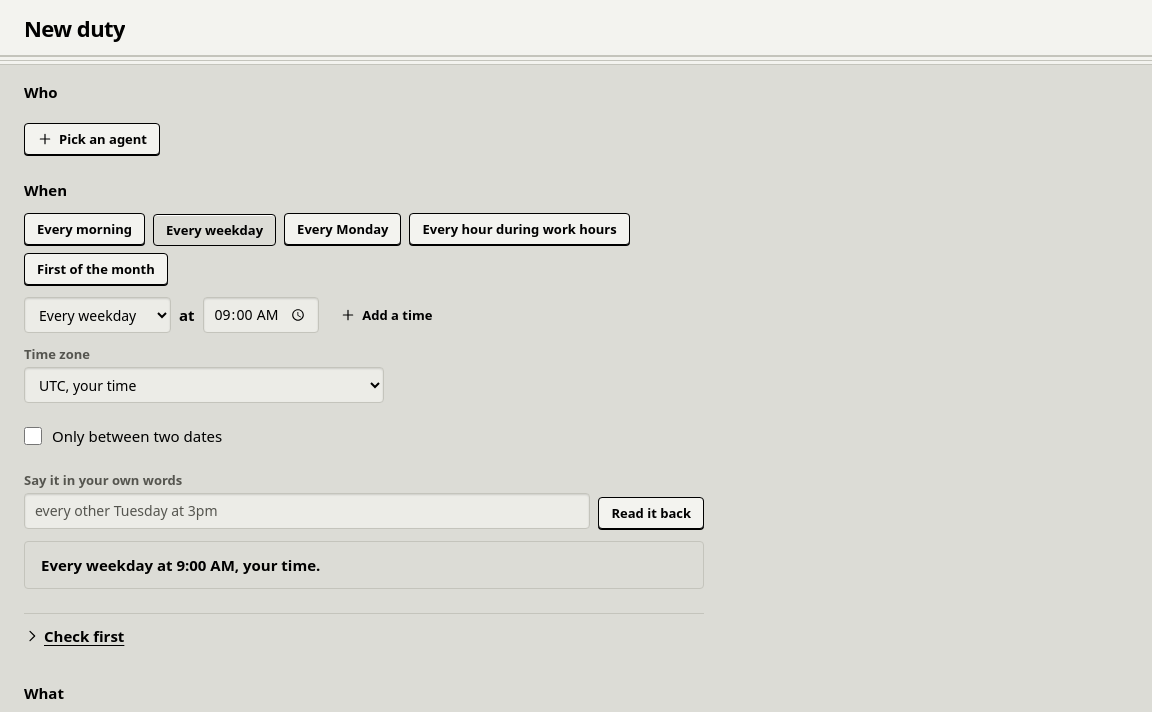
Test case: the editor of a duty › says a last day before the first day at once, in the words of the fields, and asks the server nothing for it
Click the checkbox labelled "Only between two dates": (33, 436) x1=24 y1=427 x2=42 y2=445
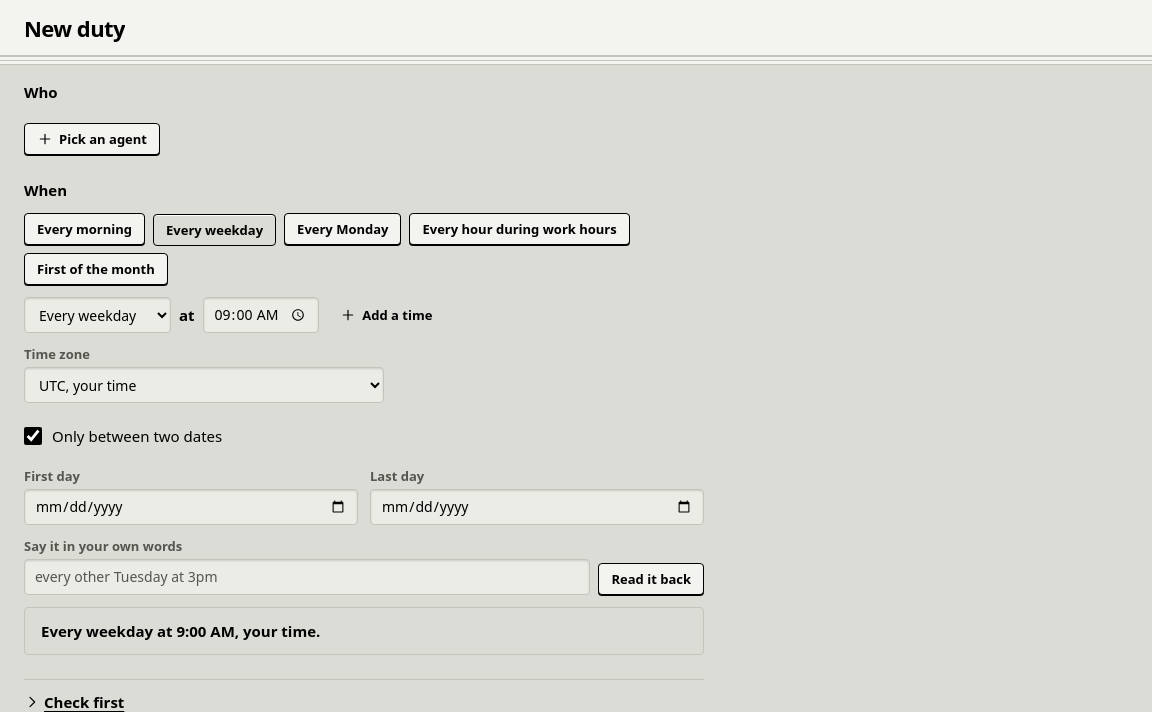
In the date field labelled "First day": (191, 507) x1=24 y1=489 x2=358 y2=525, type "2026-12-10"
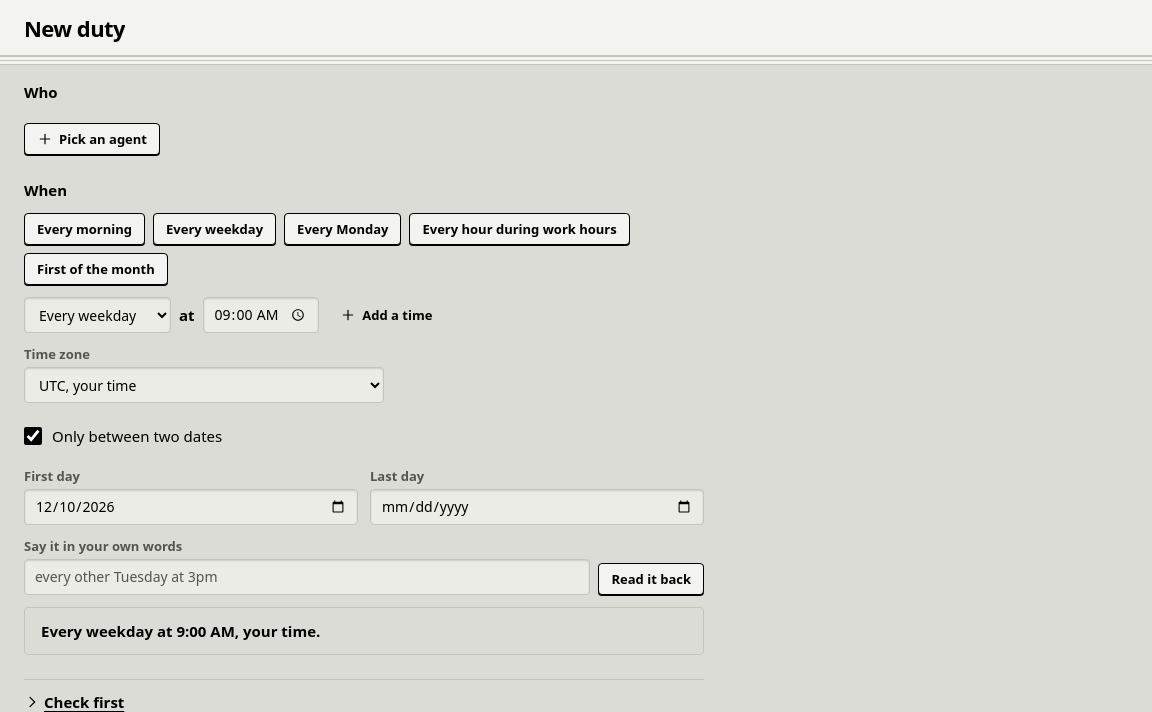
In the date field labelled "Last day": (537, 507) x1=370 y1=489 x2=704 y2=525, type "2026-12-01"
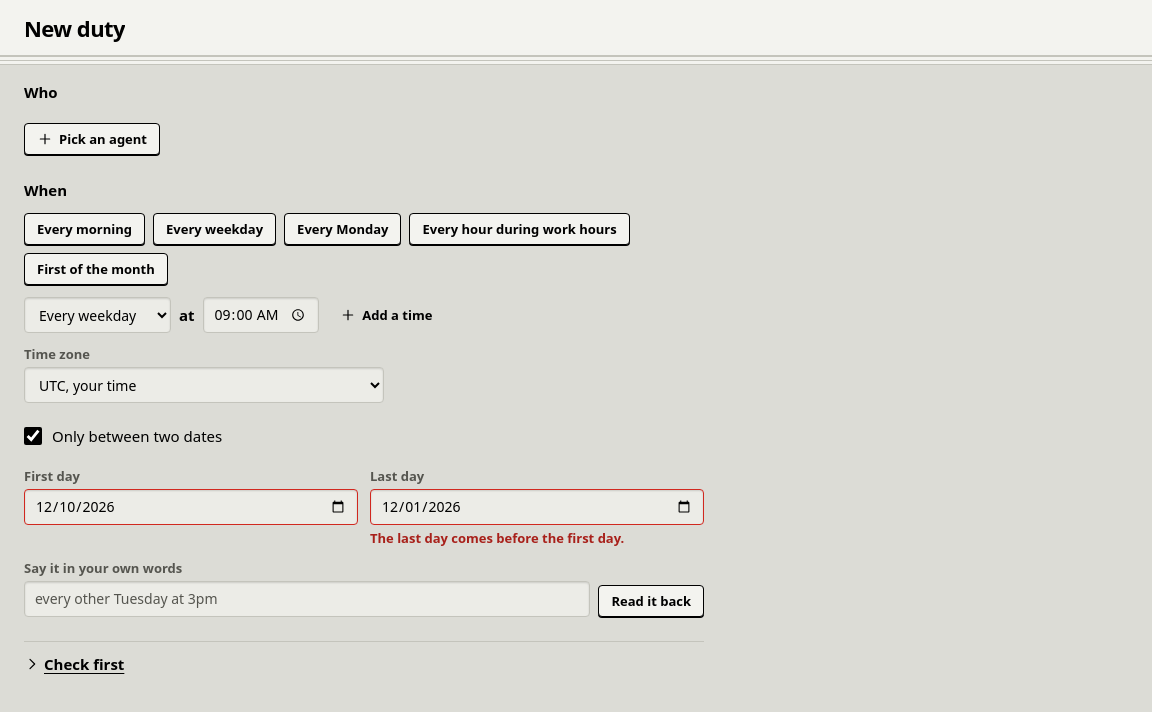
Now the message with class "field-error" reads "The last day comes before the first day.", box x1=370 y1=529 x2=624 y2=547
